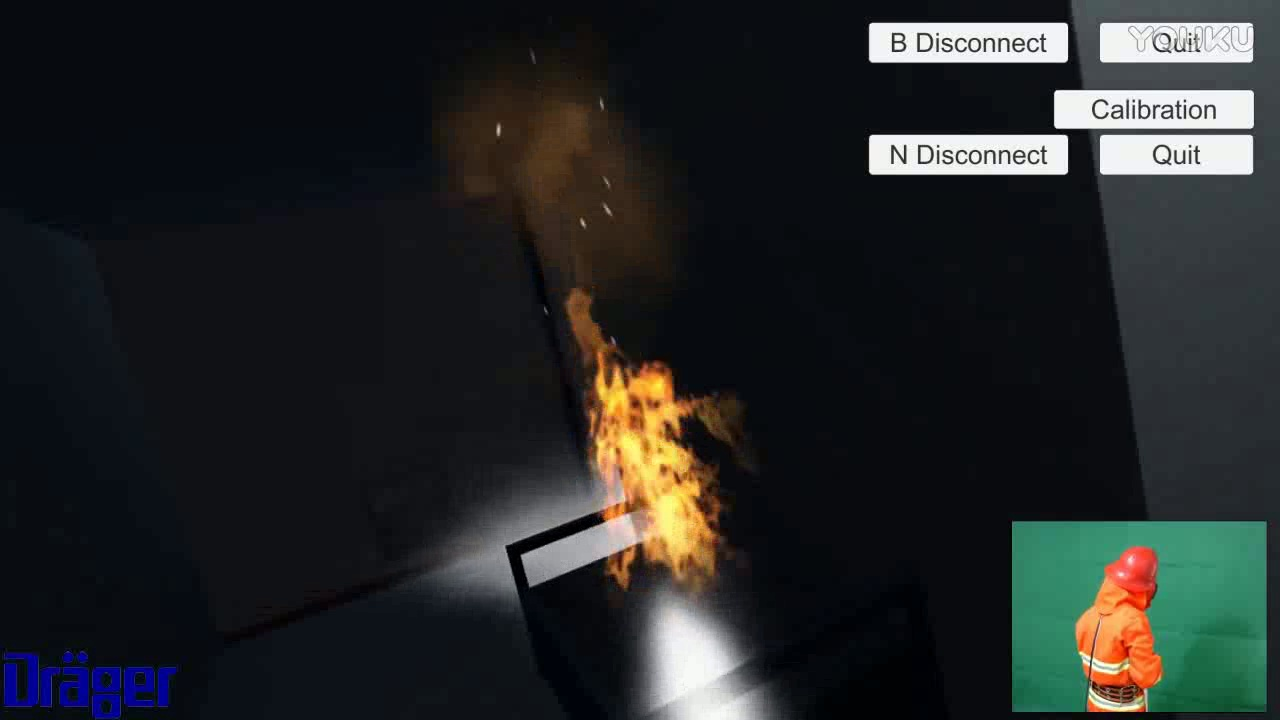fire: (570, 296, 739, 600)
